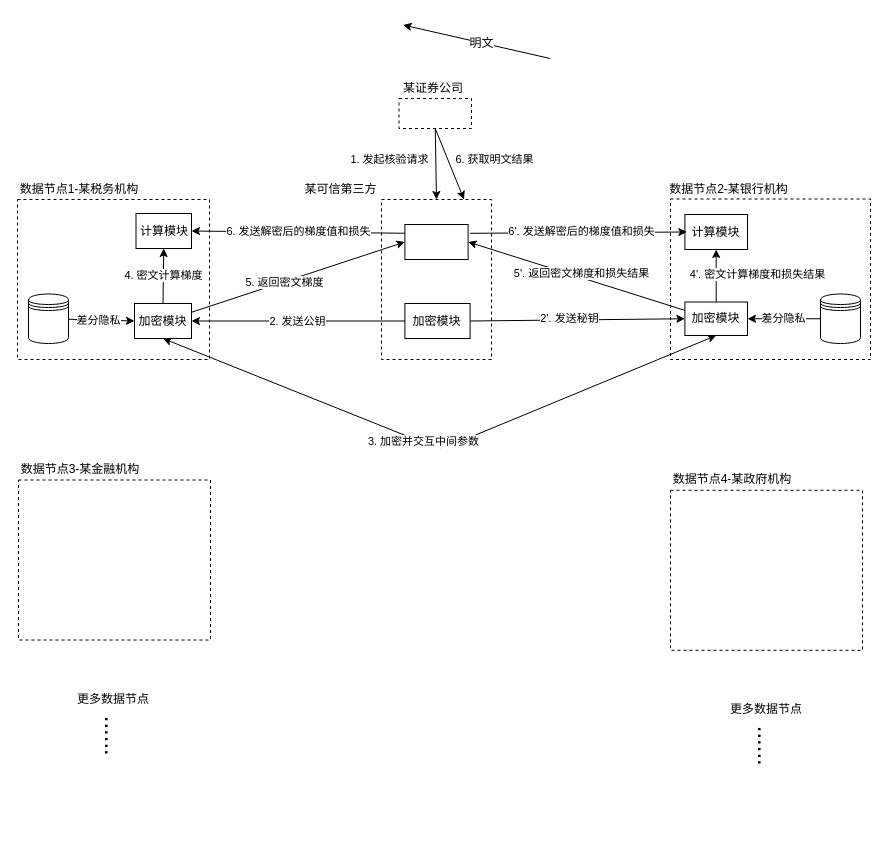
The diagram is 888 pixels wide and 863 high, and some of its shapes have lost their labels. The centre of each missing label's shape, as x and y in pixels:
业务系统: the point at 435,113
解密模块: the point at 436,242
